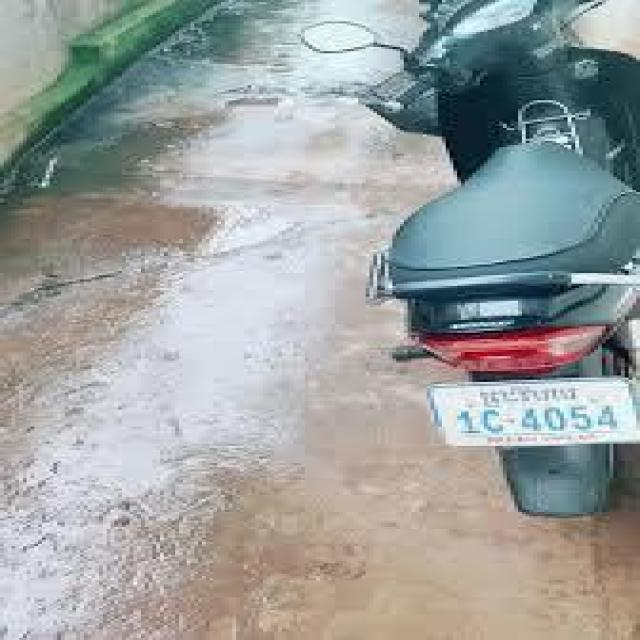Preah_Vihear: (480, 386, 581, 409)
